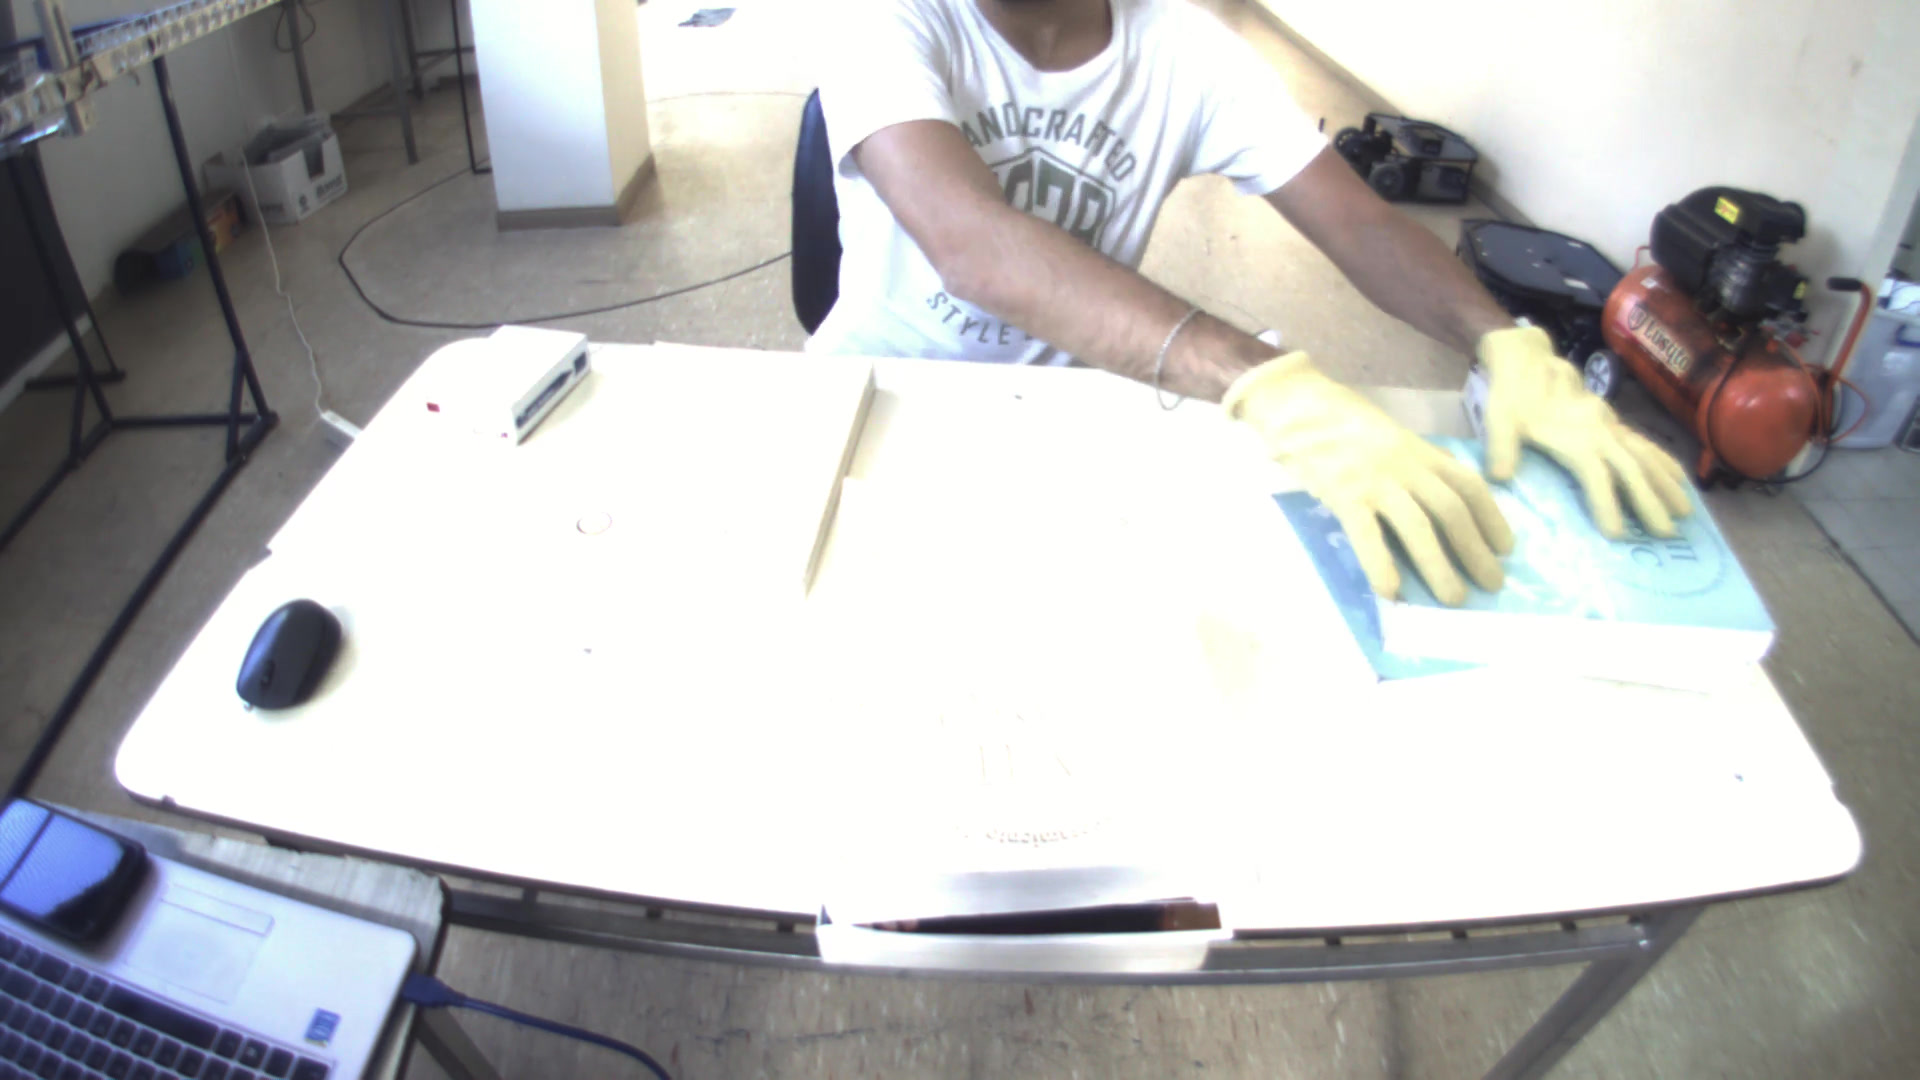hand: (1222, 344, 1536, 607), (1469, 318, 1709, 538)
